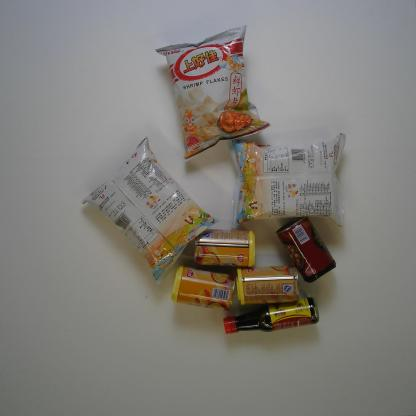Canned Food: (275, 215, 337, 284), (169, 265, 237, 311), (192, 227, 257, 269), (235, 265, 299, 307)
Puffed Food: (79, 133, 222, 288), (153, 23, 272, 165), (226, 131, 348, 233)
Seasoner: (223, 296, 320, 336)
